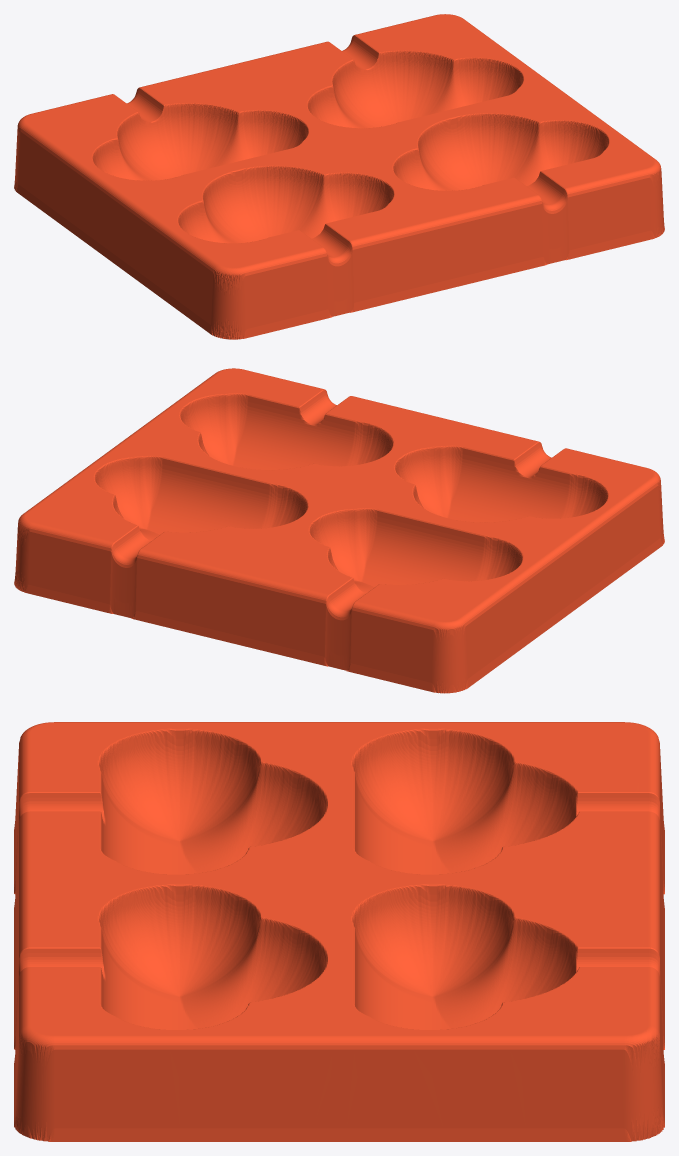
File: mold.glb
3 views of the same model, one above another, from view 1: azimuth 30°, elevation 25°; view 2: azimuth 150°, elevation 25°; view 3: azimuth 270°, elevation 25° (orthographic). The views are drawn at different scales.
Visible parts, largest first — view 1: geometry_0; view 2: geometry_0; view 3: geometry_0.
Part boxes in pixels (x1,y1,x2,y2): geometry_0: [14, 14, 664, 339]; geometry_0: [14, 368, 664, 693]; geometry_0: [14, 722, 664, 1141].
Bounding box in the file's own units: 0.1726 × 0.0245 × 0.1456.
